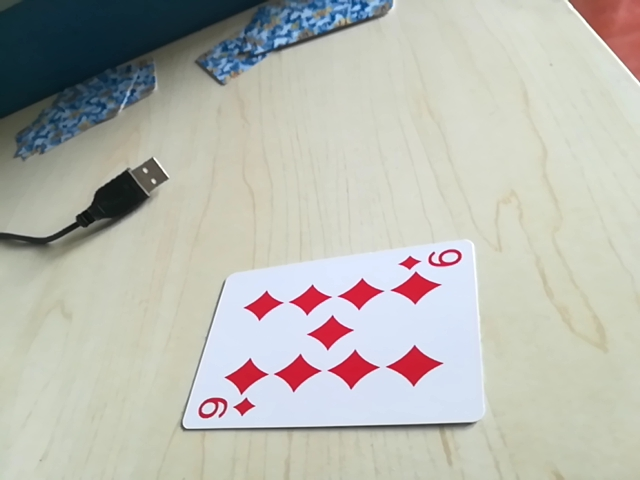fk 9: (189, 393, 261, 429), (396, 244, 467, 277)
